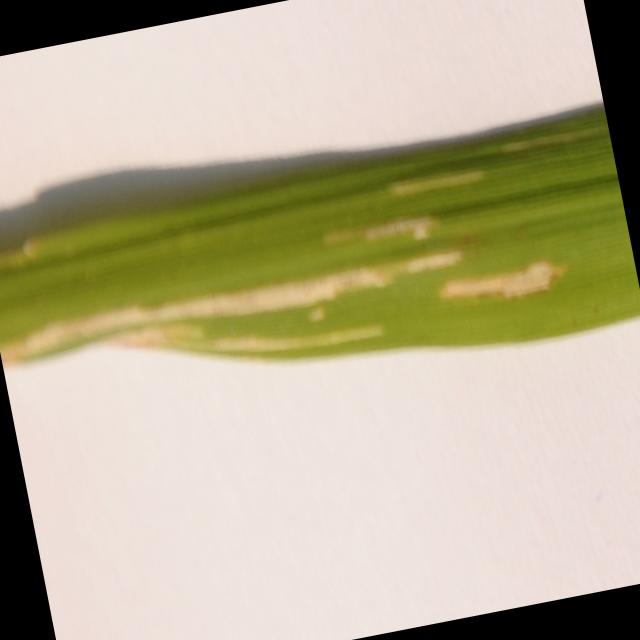leaf_blight: (0, 108, 640, 365)
